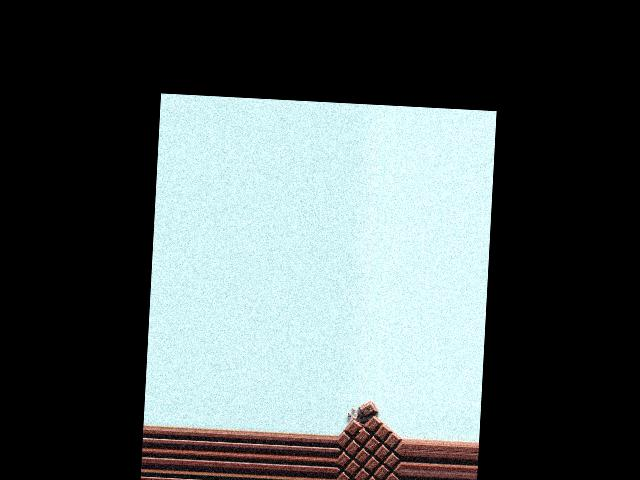chocolate: (337, 408, 401, 480)
